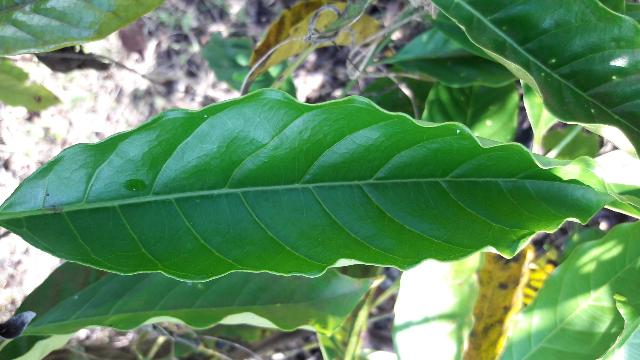healthy: (0, 88, 639, 284)
